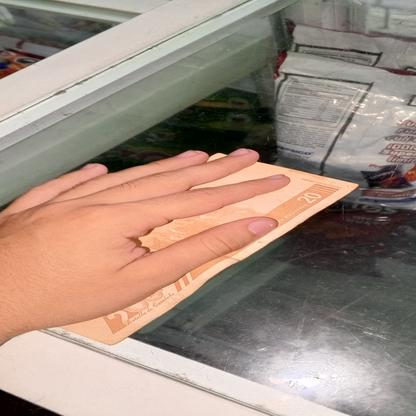twenty-back-vef: (52, 151, 360, 345)
